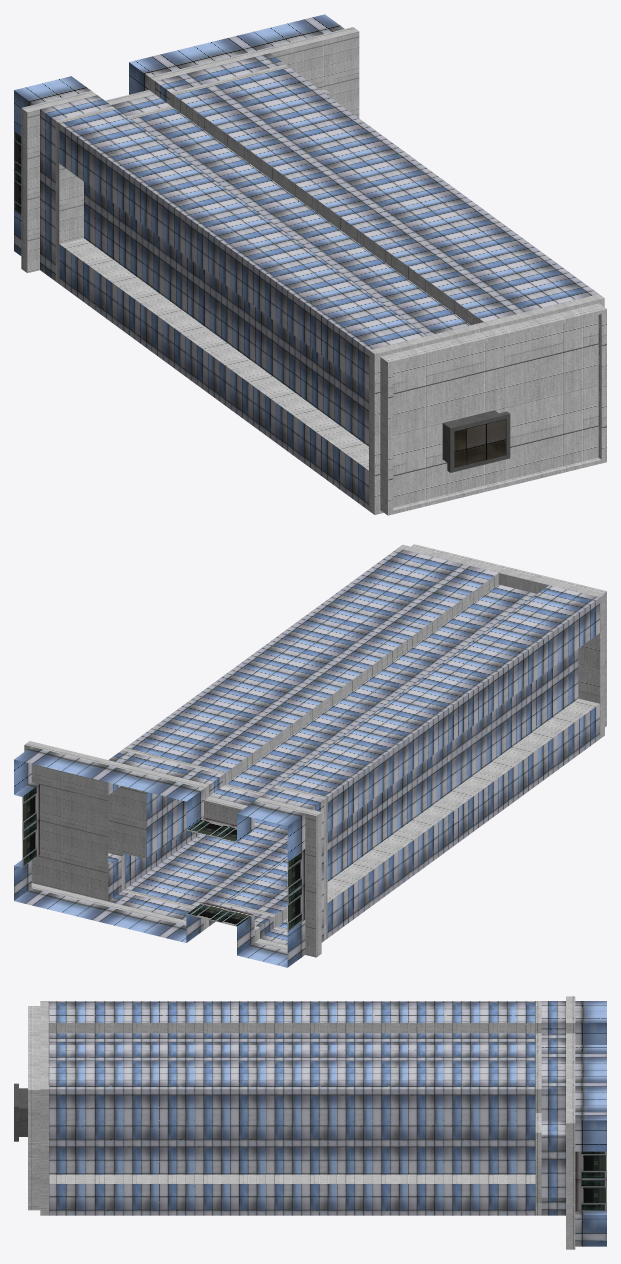
File: skyscraper_windowD_03.obj
The picture shows the model from 3 angles, top to bottom: view 1: azimuth 30°, elevation 25°; view 2: azimuth 150°, elevation 25°; view 3: azimuth 270°, elevation 25°; orthographic projection. The views are drawn at different scales.
Parts seen in each view (by area): view 1: Object01; view 2: Object01; view 3: Object01.
Boxes of the visible parts, x1,y1,x2,y2 form: Object01: [14, 14, 606, 515]; Object01: [14, 544, 606, 967]; Object01: [14, 996, 606, 1249].
Size of the model in its own units: 67.76 by 31.37 by 133.
5 materials, 5 textured.
